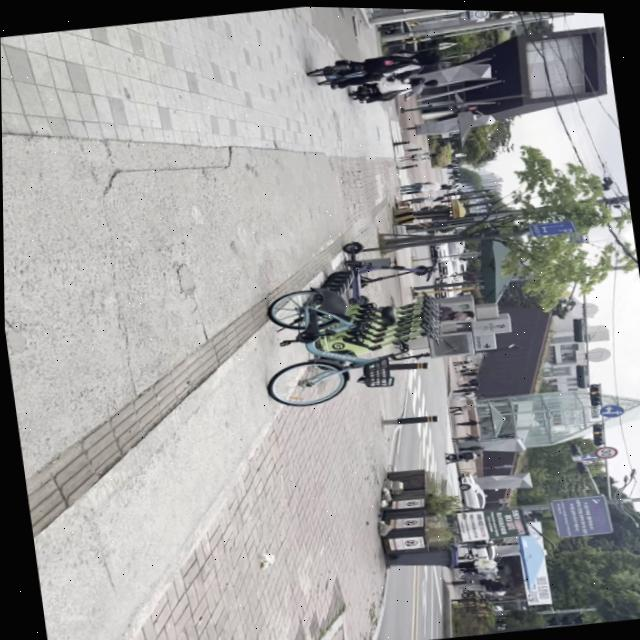kickboard_no: (248, 279, 350, 416), (322, 236, 365, 270)
kickboard_ok: (321, 322, 438, 360)
